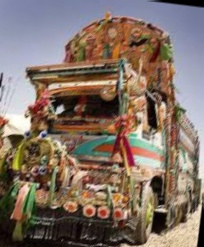truck: (6, 3, 204, 247)
